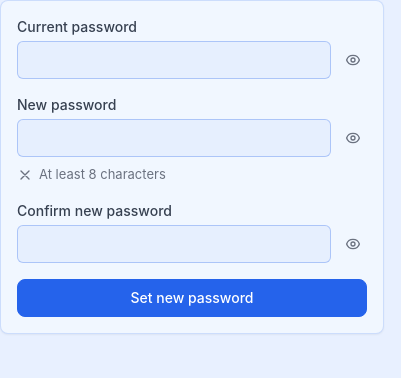
Test case: ChangePasswordForm (setup walkthrough additions) › shows the length rule and the match state in words
Type "abcdefgh" into the password field labelled "New password". click: (174, 138)
box: 17,119 -> 331,157
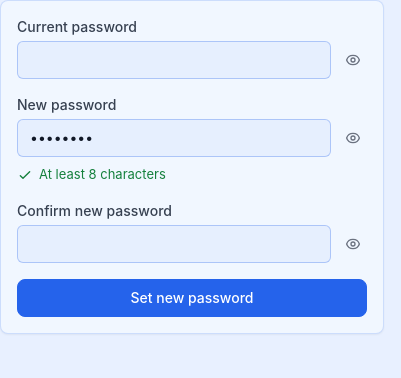
Type "abc" into the password field labelled "Confirm new password". click: (174, 244)
box: 17,224 -> 331,262
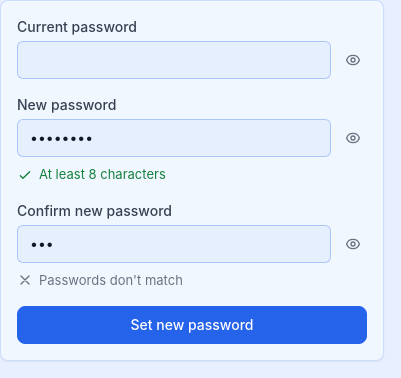
Check: the text "Passwords don't match" is shown, box 39,270 -> 183,290
Type "abcdefgh" into the password field labelled "Confirm new password". click: (174, 244)
box: 17,224 -> 331,262
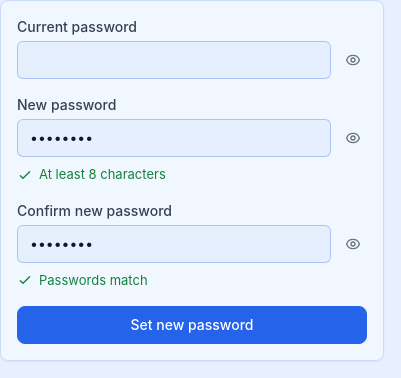
Check: the text "Passwords match" is shown, box 39,270 -> 148,290
